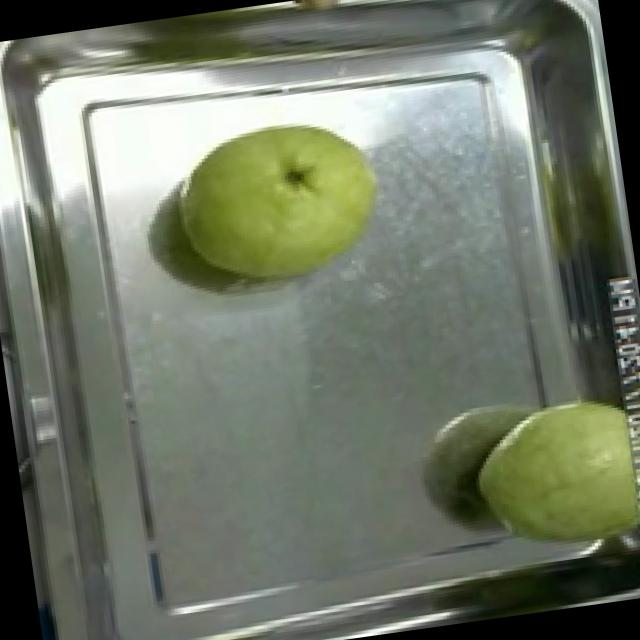Fruit: (160, 99, 400, 304), (454, 377, 640, 581)
